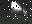person: (13, 4, 27, 19)
